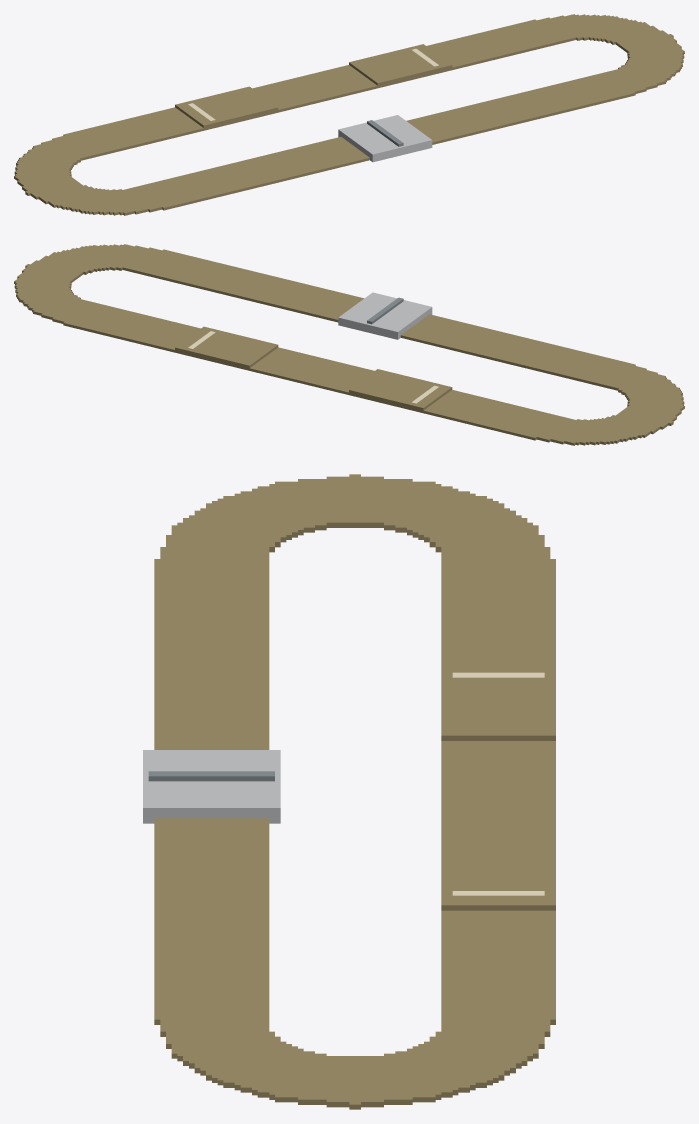
Rendered from strap_cotton.glb.
3 views of the same model, one above another, from view 1: azimuth 30°, elevation 25°; view 2: azimuth 150°, elevation 25°; view 3: azimuth 270°, elevation 25° (orthographic). The views are drawn at different scales.
Visible parts, largest first — view 1: strap_cotton:compound; view 2: strap_cotton:compound; view 3: strap_cotton:compound.
Boxes of the visible parts, bbox=[...] form: strap_cotton:compound: bbox=[14, 14, 684, 215]; strap_cotton:compound: bbox=[14, 244, 684, 445]; strap_cotton:compound: bbox=[143, 474, 555, 1109].
Size of the model in its own units: 0.52 by 0.008 by 0.144.
